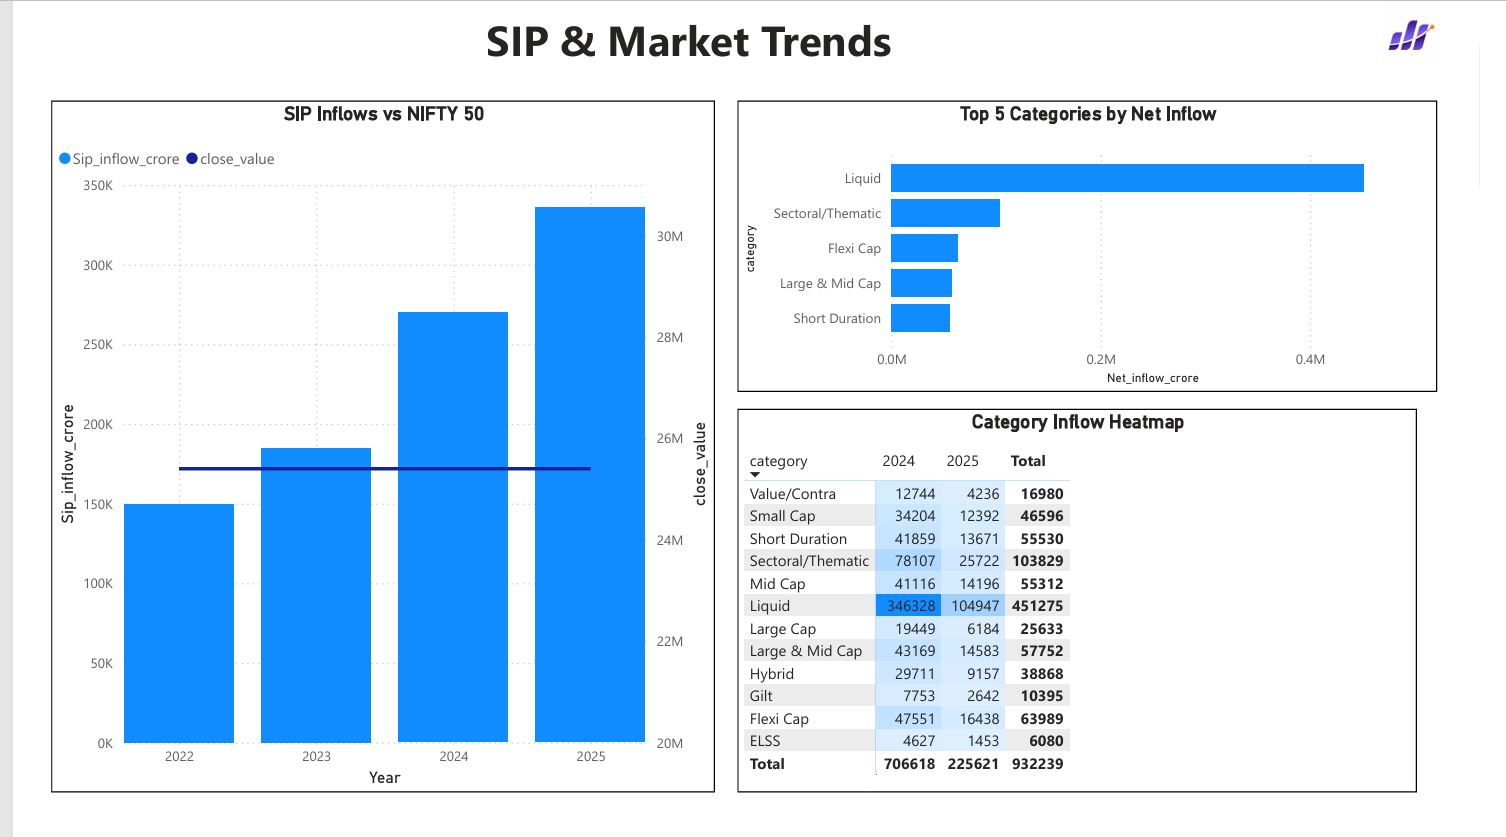

This screenshot's page, from the dashboard's own definition file:
{"tool":"powerbi","page":{"name":"SIP & Market Trends","canvas":[1280,720],"ordinal":3},"visuals":[{"type":"textbox","box":[9.9,0,1133.2,84.9],"z":0},{"type":"lineClusteredColumnComboChart","title":"SIP Inflows vs NIFTY 50","fields":{"Category":["monthly_sip_inflows_cleaned.month.Variation.Date Hierarchy.Year","monthly_sip_inflows_cleaned.month.Variation.Date Hierarchy.Quarter","monthly_sip_inflows_cleaned.month.Variation.Date Hierarchy.Month","monthly_sip_inflows_cleaned.month.Variation.Date Hierarchy.Day"],"Y":["Sum(monthly_sip_inflows_cleaned.sip_inflow_crore)"],"Y2":["Sum(benchmark_indices_cleaned.close_value)"]},"box":[9.9,84.9,589.9,615.4],"z":1000},{"type":"pivotTable","title":"Category Inflow Heatmap","fields":{"Rows":["category_inflows_cleaned.category"],"Columns":["category_inflows_cleaned.month.Variation.Date Hierarchy.Year","category_inflows_cleaned.month.Variation.Date Hierarchy.Quarter","category_inflows_cleaned.month.Variation.Date Hierarchy.Month","category_inflows_cleaned.month.Variation.Date Hierarchy.Day"],"Values":["Sum(category_inflows_cleaned.net_inflow_crore)"]},"box":[619.6,359.3,604.1,340.9],"z":2000},{"type":"clusteredBarChart","title":"Top 5 Categories by Net Inflow","fields":{"Category":["category_inflows_cleaned.category"],"Y":["Sum(category_inflows_cleaned.net_inflow_crore)"]},"box":[619.6,84.9,622.5,258.9],"z":3000},{"type":"image","box":[1185.5,0,66.5,53.8],"z":3001}]}

Visuals, with their boxes in screenshot pixels (x1, y1, x2, y2), scaled from the page's 1280x720 canvas onto the 1506x837 screenshot:
textbox: pyautogui.locateOnScreen(12, 0, 1345, 99)
"SIP Inflows vs NIFTY 50" lineClusteredColumnComboChart: pyautogui.locateOnScreen(12, 99, 706, 814)
"Category Inflow Heatmap" pivotTable: pyautogui.locateOnScreen(729, 418, 1440, 814)
"Top 5 Categories by Net Inflow" clusteredBarChart: pyautogui.locateOnScreen(729, 99, 1461, 400)
image: pyautogui.locateOnScreen(1395, 0, 1473, 63)
